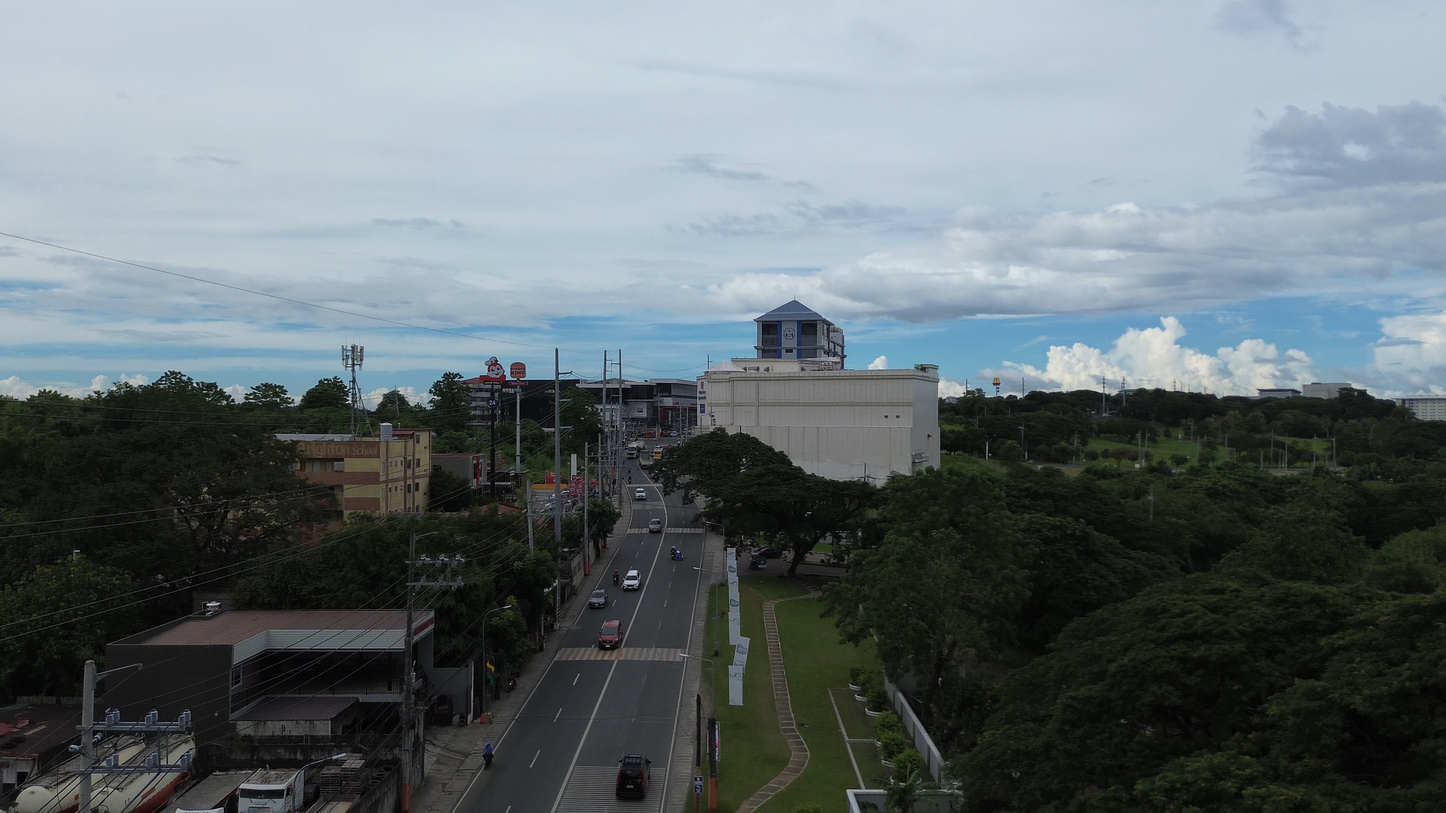car: (598, 620, 622, 649), (622, 569, 640, 590), (589, 589, 608, 608), (648, 519, 663, 533)
vehicle: (91, 735, 194, 813), (237, 769, 304, 813), (616, 755, 650, 799), (748, 554, 767, 570), (639, 457, 655, 469), (634, 488, 647, 501), (670, 548, 682, 560), (626, 448, 638, 458)
